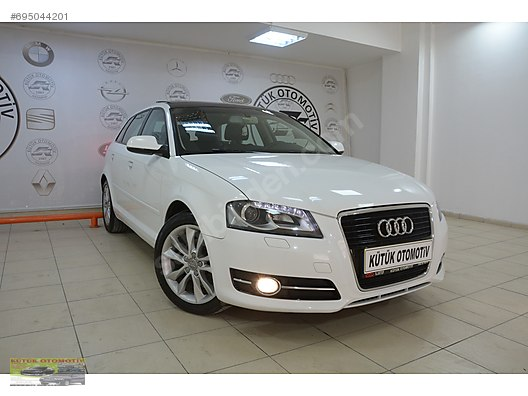audi: (368, 215, 419, 239)
